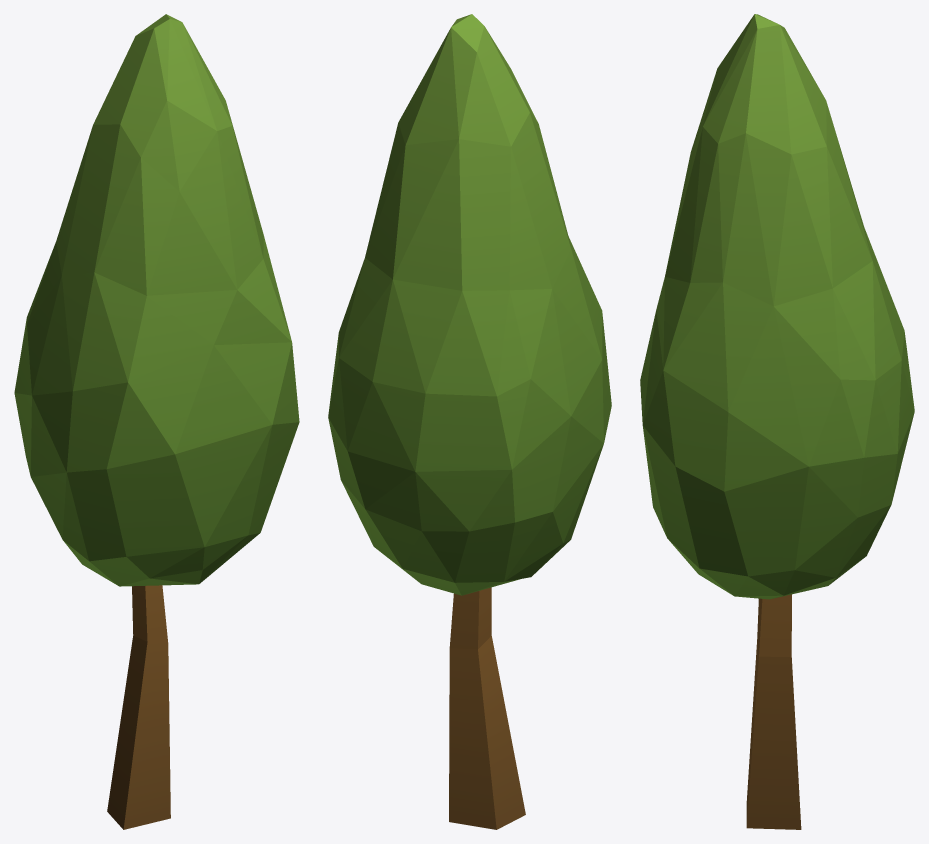
Rendered from LowPoly_TREE_B.glb.
3 views of the same model, side by side, from view 1: azimuth 30°, elevation 25°; view 2: azimuth 150°, elevation 25°; view 3: azimuth 270°, elevation 25° (orthographic). The views are drawn at different scales.
Visible parts, largest first — view 1: Tree_small_regular; view 2: Tree_small_regular; view 3: Tree_small_regular.
Part boxes in pixels (box(x1,y1,x2,y2)): Tree_small_regular: box(14, 14, 299, 829); Tree_small_regular: box(328, 14, 611, 829); Tree_small_regular: box(640, 14, 914, 829).
Size of the model in its own units: 2.3 by 7.7 by 2.35.
Materials: 1 (1 with a texture image).
